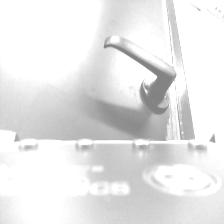Door Handle: (102, 34, 178, 116)
